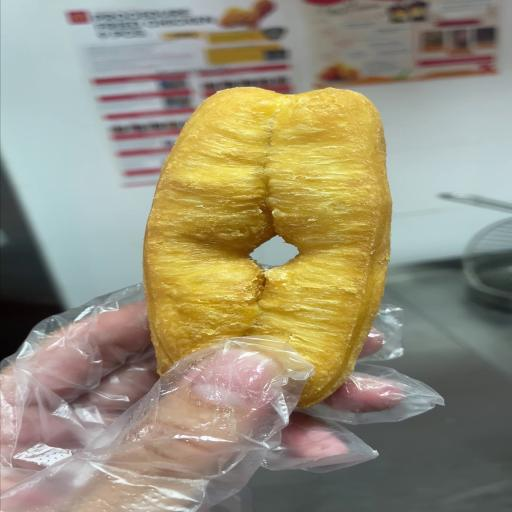brand_golden_defect: (144, 87, 391, 407)
